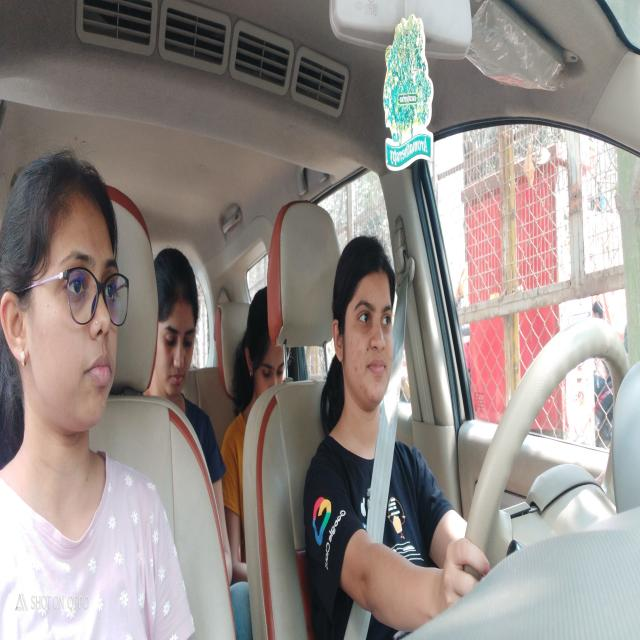person: (1, 150, 133, 444), (333, 231, 399, 421), (155, 244, 203, 395), (241, 289, 294, 396)
